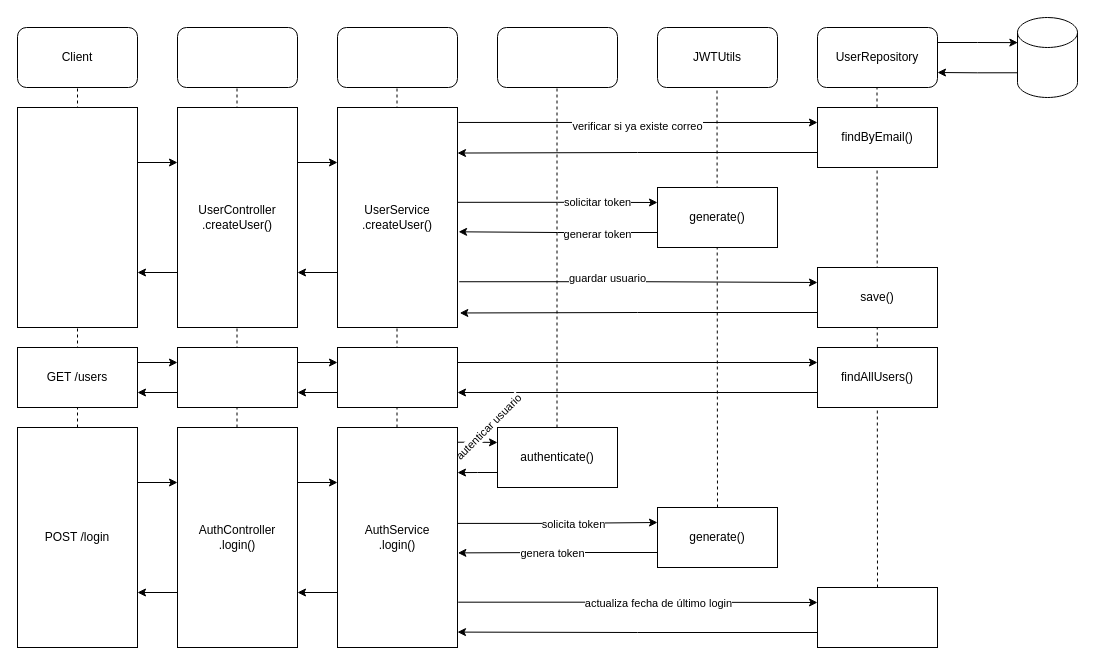
The diagram is 1095 pixels wide and 665 high, and some of its shapes have lost their labels. The shapes that lost their labels are listed below. From the top down, each one's centre as x and y in pixels, then its label:
(x=237, y=57): Controller
(x=397, y=57): Service
(x=557, y=57): AuthManager
(x=1047, y=57): H2 DB
(x=77, y=217): POST /users
(x=237, y=377): UserController .getAllUsers()
(x=397, y=377): UserService .getAllUsers()
(x=877, y=617): updateLastLogin ByEmail()
